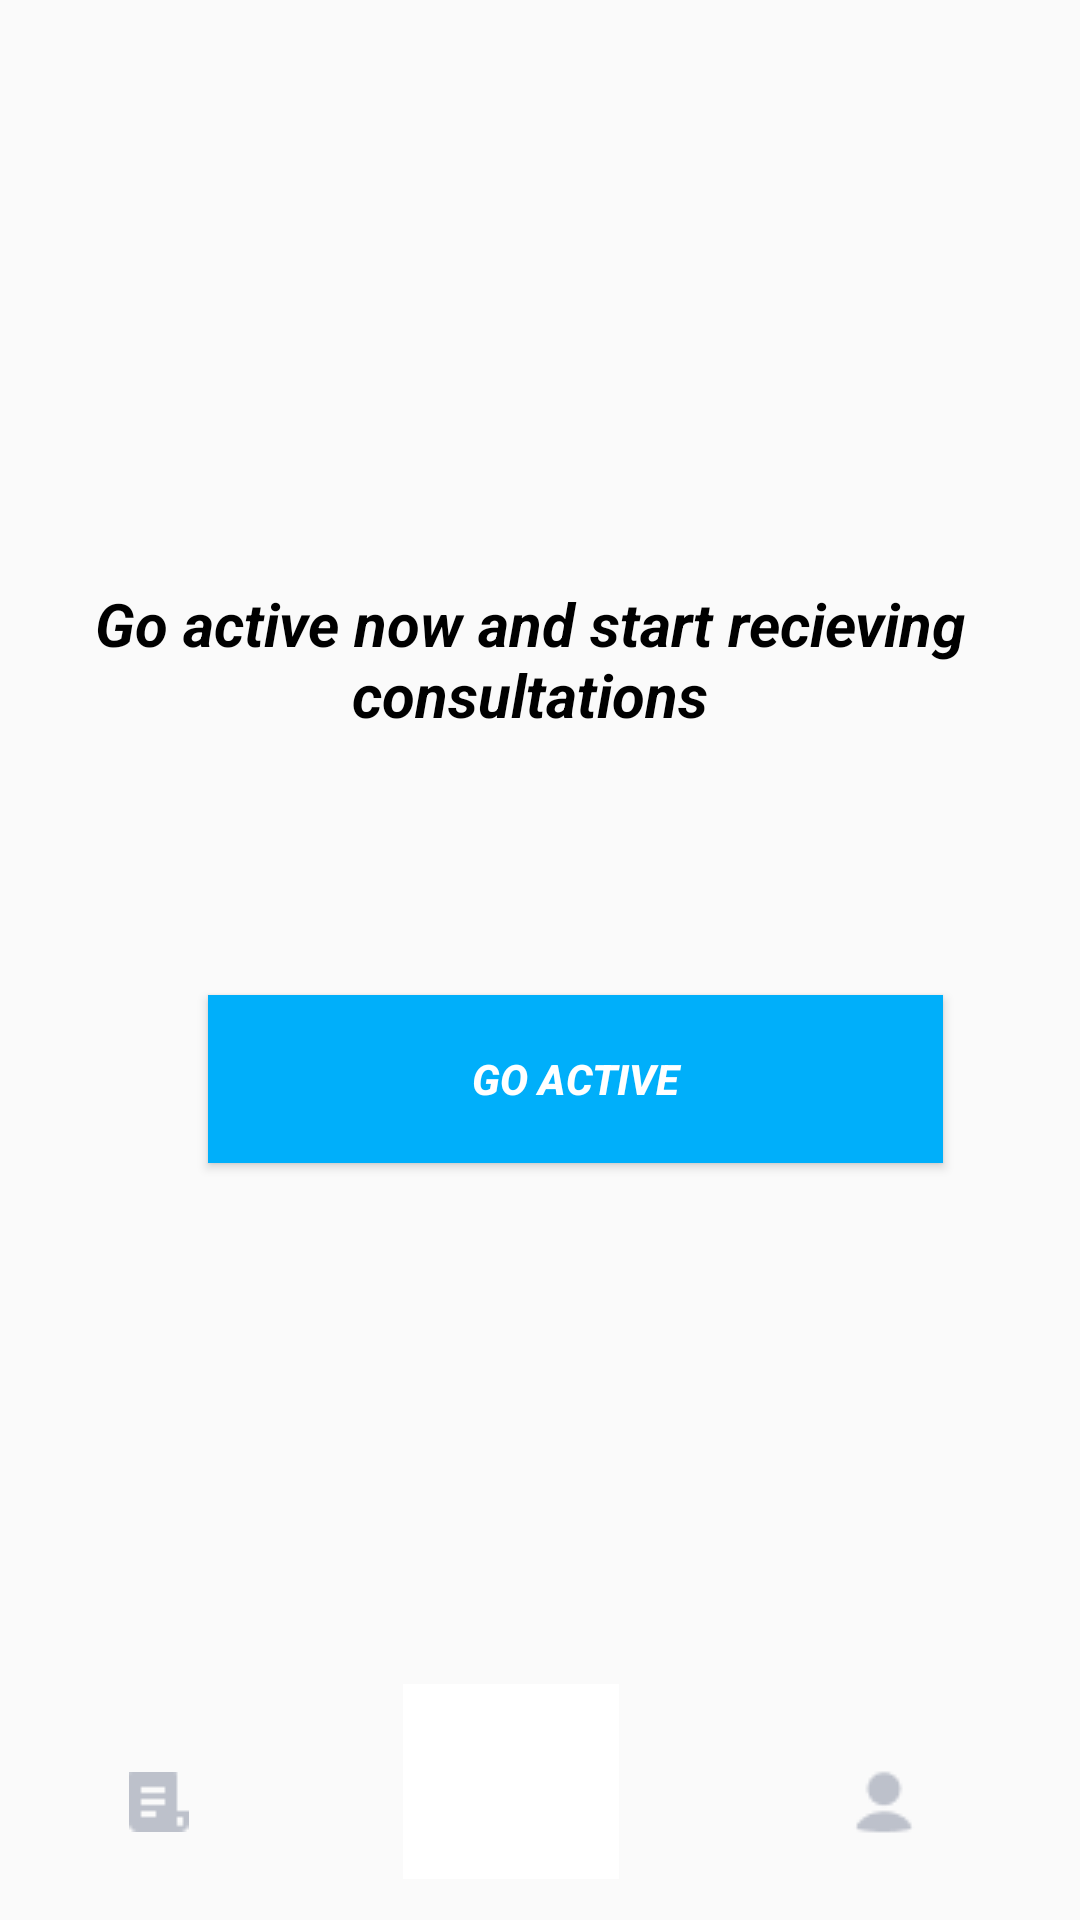

Where to tap for icons on this 1080×1920 app screen, as point (x, y):
useriicon: point (884, 1802)
